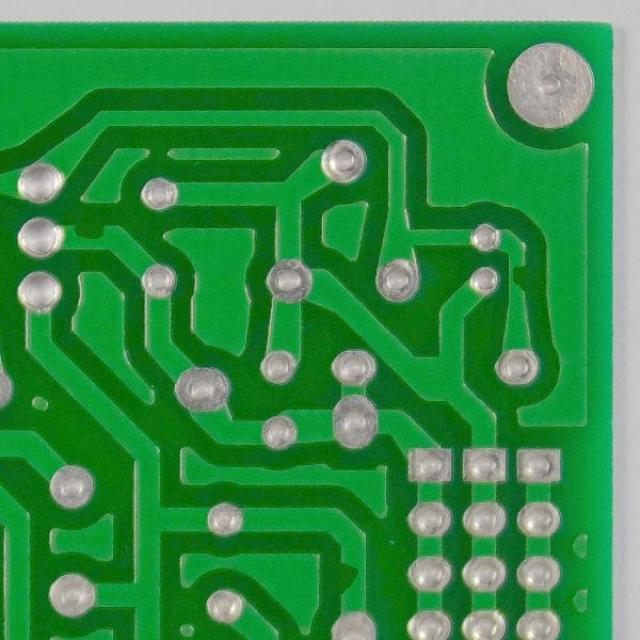MouseBite: (65, 214, 116, 246), (333, 556, 367, 598), (506, 258, 530, 298)
